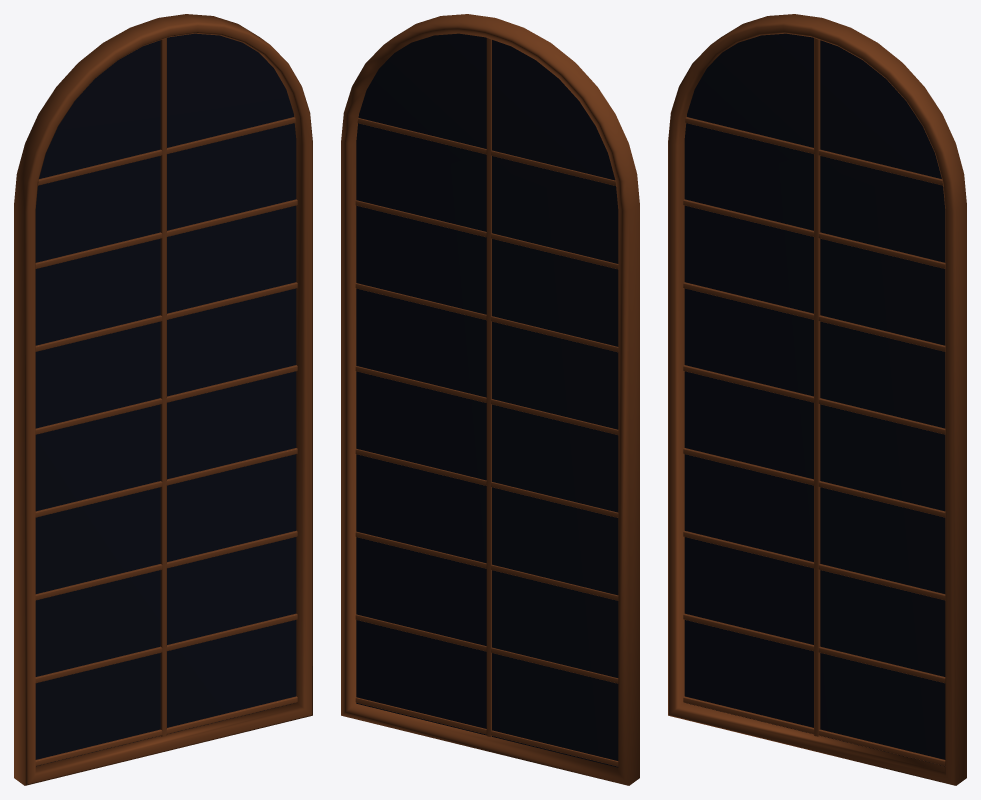
File: SP_House01_Window03.fbx
3 renders of one model, left to right at view 1: azimuth 30°, elevation 25°; view 2: azimuth 150°, elevation 25°; view 3: azimuth 330°, elevation 25°, orthographic.
Parts seen in each view (by area): view 1: SP_House01_Window03; view 2: SP_House01_Window03; view 3: SP_House01_Window03.
Part boxes in pixels (box(x1,y1,x2,y2)): SP_House01_Window03: box(14, 14, 312, 785); SP_House01_Window03: box(341, 14, 639, 785); SP_House01_Window03: box(668, 14, 966, 785).
Bounding box in the file's own units: 0.8625 × 2.07 × 0.0635.
